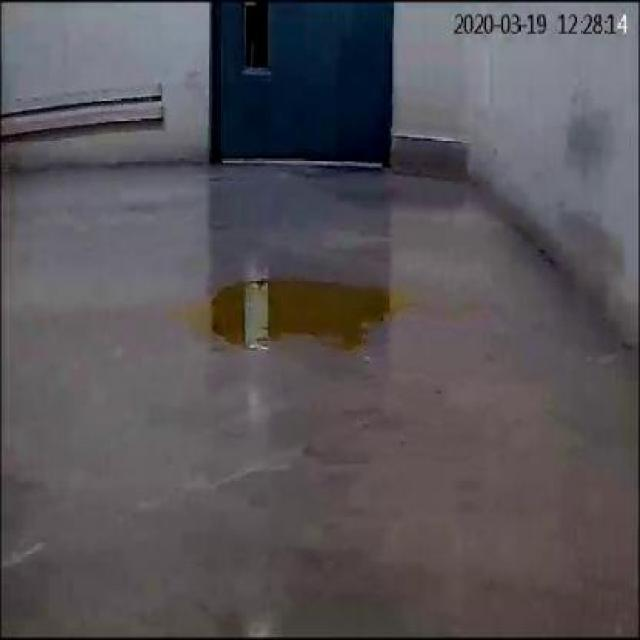spill: (180, 272, 411, 354)
